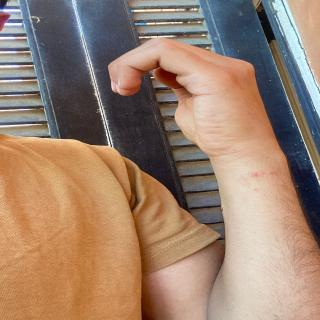HAA: (87, 31, 308, 171)
